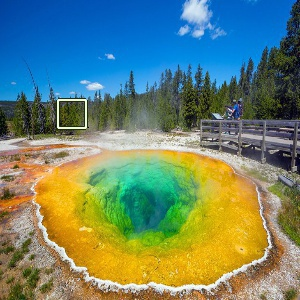square: (54, 97, 88, 130)
